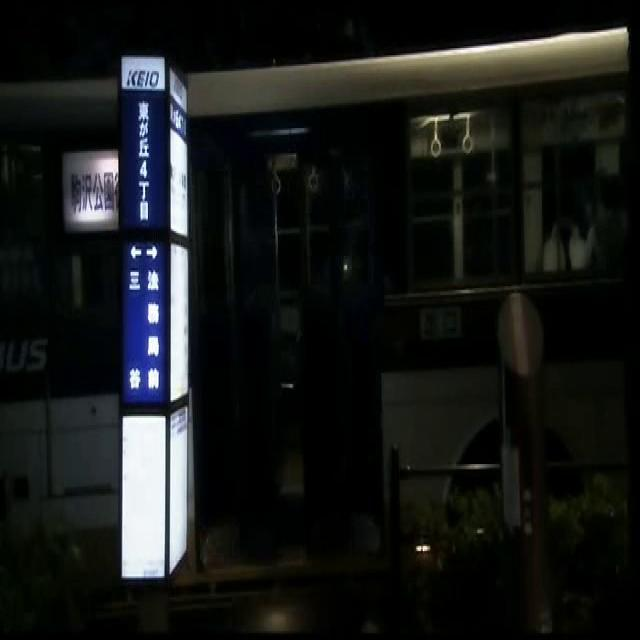Bus: (0, 65, 640, 597)
